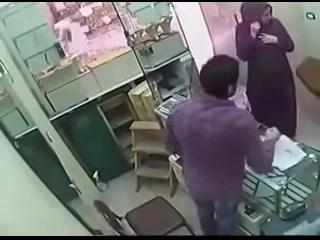Normal: (164, 53, 280, 234), (235, 2, 298, 140), (93, 196, 195, 236)
